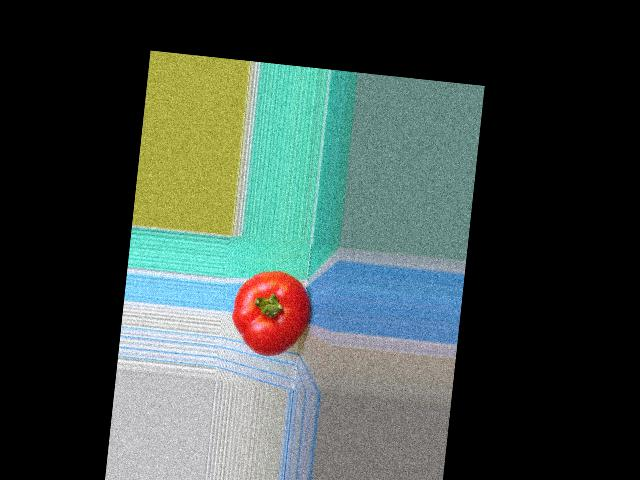tomato: (228, 266, 314, 359)
